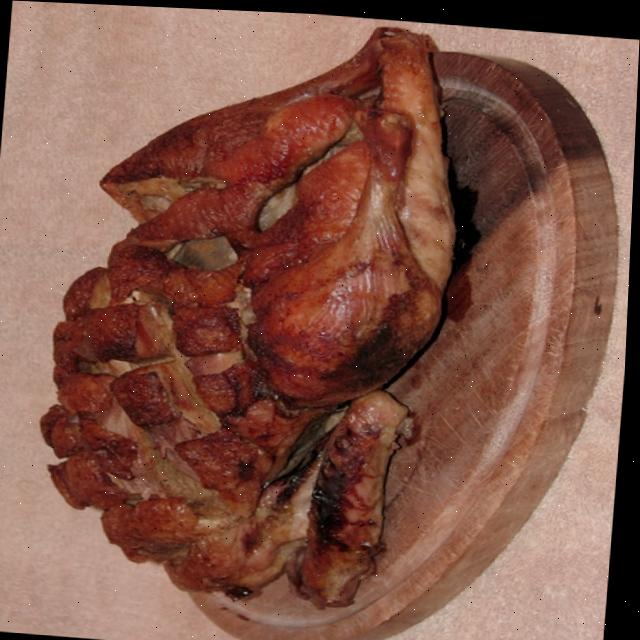烧串烤肉: (0, 9, 590, 640)
